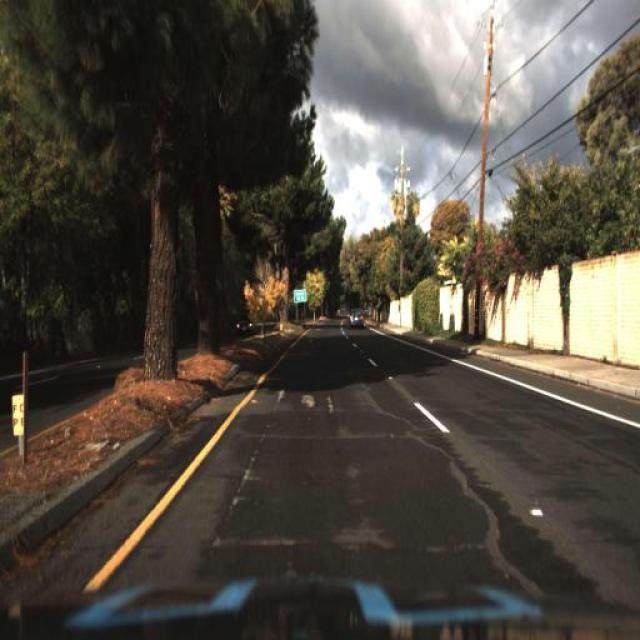car: (236, 313, 259, 336), (348, 309, 364, 330)
